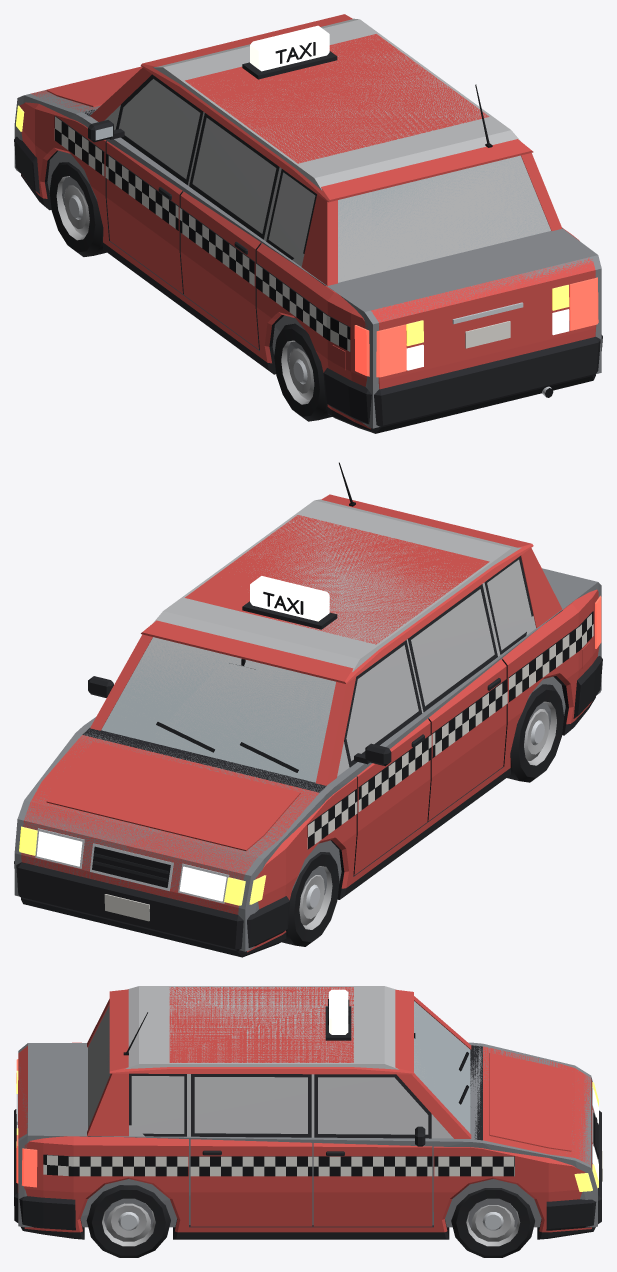
The model's file is car_taxi.glb.
The picture shows the model from 3 angles, top to bottom: view 1: azimuth 30°, elevation 25°; view 2: azimuth 150°, elevation 25°; view 3: azimuth 270°, elevation 25°; orthographic projection. The views are drawn at different scales.
Visible parts, largest first — view 1: car_taxi__body, car_taxi__col_cabin, car_taxi__col_body, car_taxi__door_rl, car_taxi__door_fl, car_taxi__wheel_rl, car_taxi__wheel_fl; view 2: car_taxi__body, car_taxi__col_cabin, car_taxi__col_body, car_taxi__door_rl, car_taxi__door_fl, car_taxi__wheel_rl, car_taxi__wheel_fl; view 3: car_taxi__body, car_taxi__col_cabin, car_taxi__col_body, car_taxi__door_rr, car_taxi__door_fr, car_taxi__wheel_rr, car_taxi__wheel_fr.
Boxes of the visible parts, x1=… form: car_taxi__body: x1=14, y1=14, x2=602, y2=433; car_taxi__col_cabin: x1=104, y1=18, x2=550, y2=282; car_taxi__col_body: x1=14, y1=90, x2=601, y2=428; car_taxi__door_rl: x1=179, y1=113, x2=279, y2=349; car_taxi__door_fl: x1=88, y1=74, x2=203, y2=293; car_taxi__wheel_rl: x1=274, y1=323, x2=331, y2=421; car_taxi__wheel_fl: x1=49, y1=162, x2=106, y2=256; car_taxi__body: x1=14, y1=462, x2=602, y2=957; car_taxi__col_cabin: x1=101, y1=499, x2=535, y2=782; car_taxi__col_body: x1=14, y1=568, x2=601, y2=951; car_taxi__door_rl: x1=408, y1=584, x2=507, y2=821; car_taxi__door_fl: x1=344, y1=640, x2=431, y2=875; car_taxi__wheel_rl: x1=507, y1=684, x2=563, y2=782; car_taxi__wheel_fl: x1=281, y1=852, x2=339, y2=946; car_taxi__body: x1=14, y1=987, x2=602, y2=1239; car_taxi__col_cabin: x1=88, y1=986, x2=470, y2=1138; car_taxi__col_body: x1=18, y1=1042, x2=597, y2=1227; car_taxi__door_rr: x1=190, y1=1074, x2=312, y2=1226; car_taxi__door_fr: x1=313, y1=1074, x2=432, y2=1226; car_taxi__wheel_rr: x1=86, y1=1185, x2=170, y2=1257; car_taxi__wheel_fr: x1=451, y1=1188, x2=534, y2=1257.
Size of what is drawn, in the model's own units: 2.2 by 1.96 by 4.61.
Materials: 10 (2 with a texture image).
